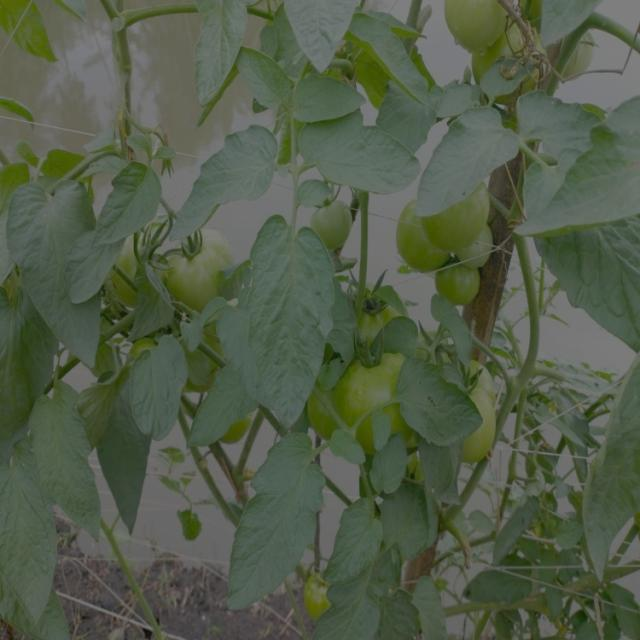tomato: (433, 349, 515, 467), (335, 344, 419, 435), (419, 178, 498, 243), (171, 233, 232, 313), (104, 230, 163, 310), (286, 563, 347, 632), (208, 393, 263, 469), (445, 4, 510, 59), (301, 193, 359, 253), (394, 207, 449, 269), (349, 291, 409, 346), (300, 364, 335, 451), (434, 252, 491, 305), (456, 224, 501, 265)
